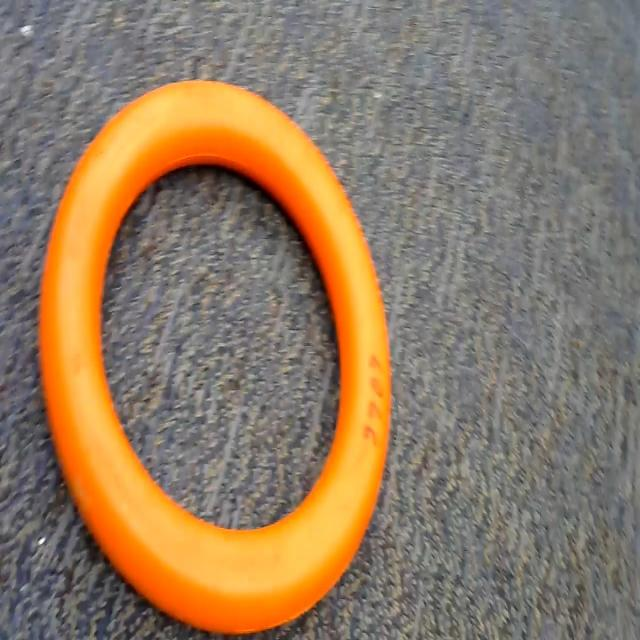note: (29, 76, 400, 638)
